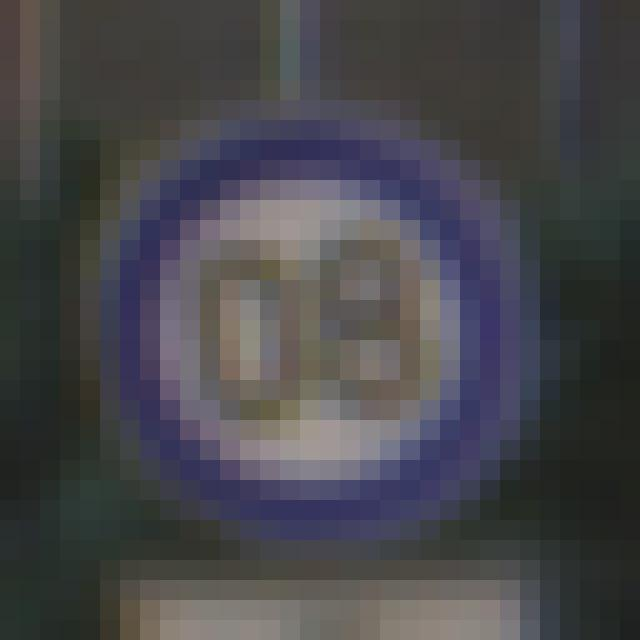SPEED-LIMIT-80: (84, 121, 556, 527)
